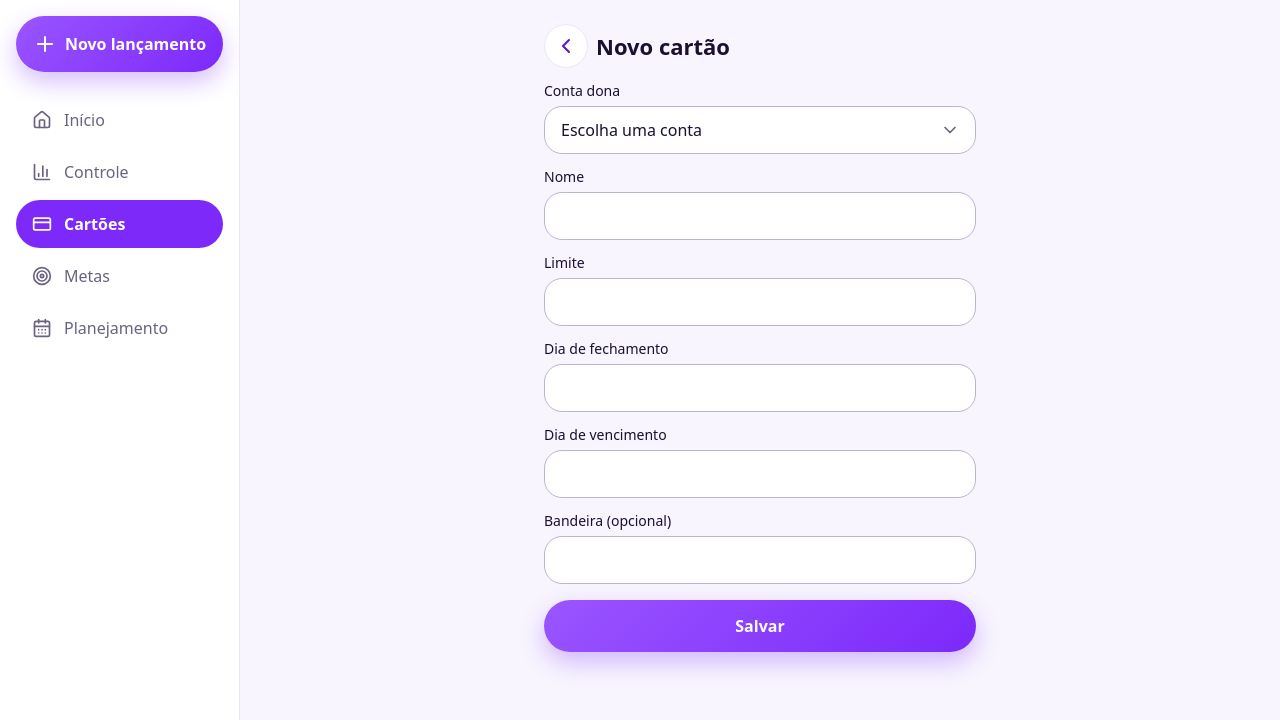
Scenario: cadastro de cartão (CA-4.01) › os dias aceitam só dígitos, no máximo 2
The image size is (1280, 720).
Check: the heading "Novo cartão" is shown, box top-left (596, 31), bottom-right (730, 61)
In the field labelled "Dia de fechamento": (760,388) top-left (544, 364), bottom-right (976, 412), type "1a2b3"
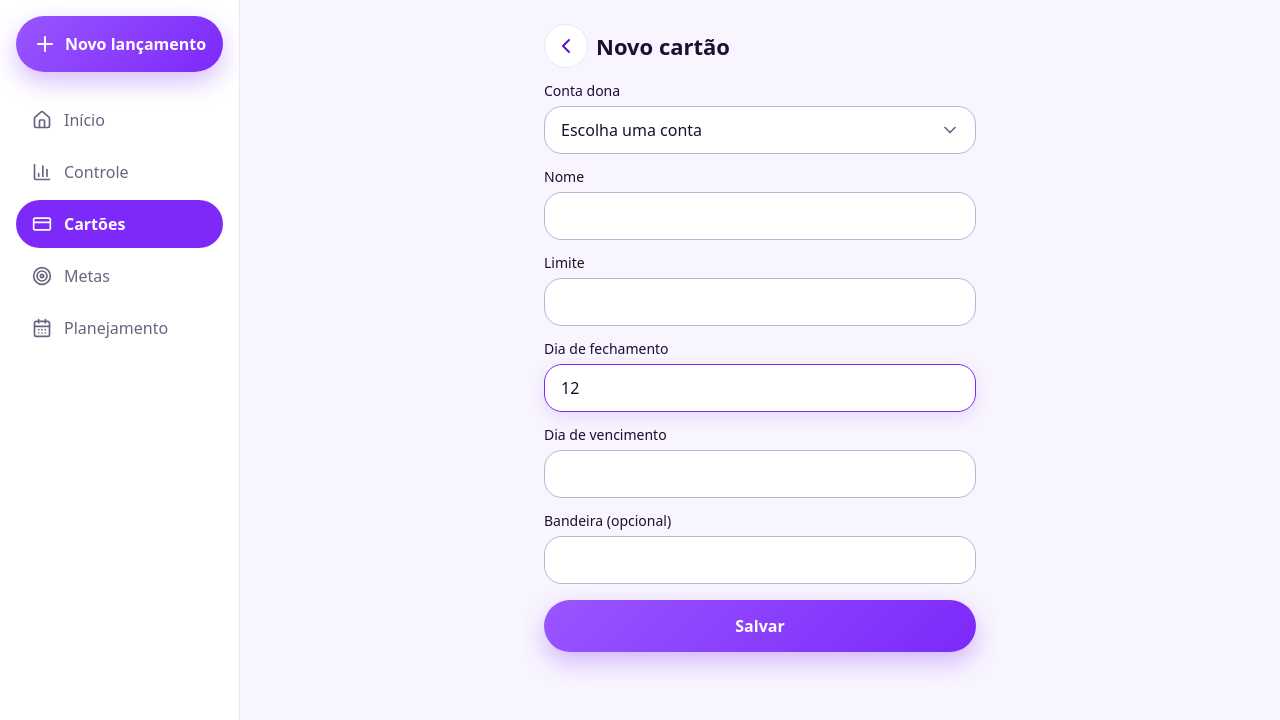
Check: the field labelled "Dia de fechamento" holds "12", box top-left (544, 364), bottom-right (976, 412)
